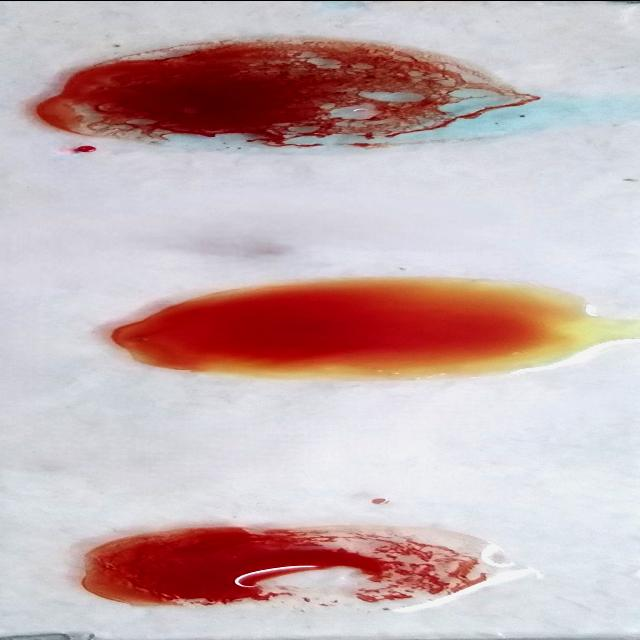A: (44, 35, 564, 154)
D: (83, 522, 523, 607)
